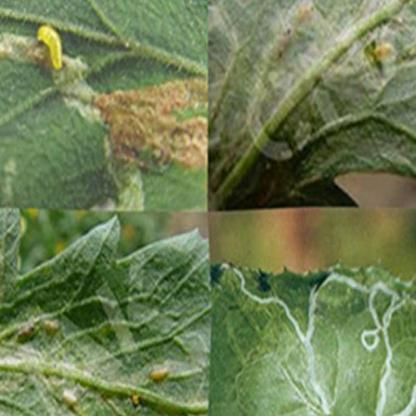whorl-maggot: (35, 17, 75, 74)
